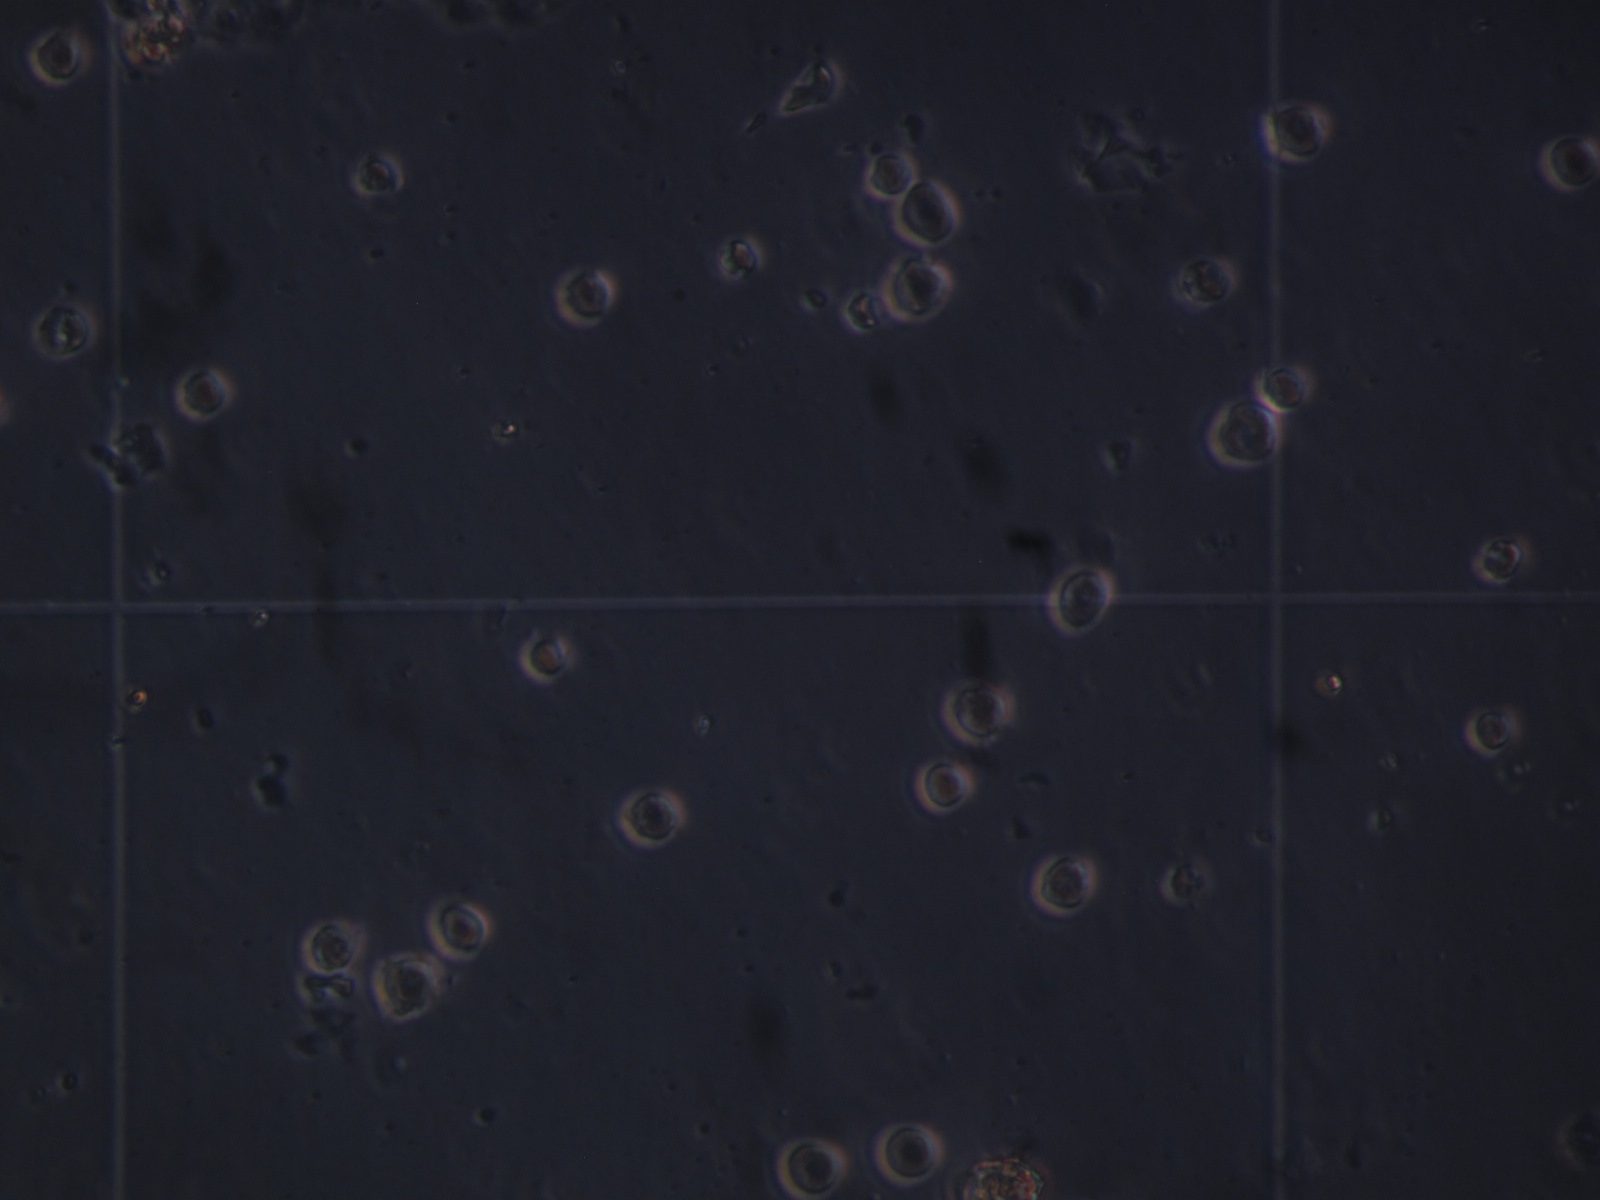hemo: (1207, 393, 1283, 469), (881, 255, 952, 326), (871, 1121, 945, 1190), (891, 176, 960, 248), (942, 679, 1015, 747), (1259, 97, 1329, 166), (369, 953, 440, 1022), (1047, 563, 1114, 637), (775, 1134, 848, 1200), (1029, 853, 1099, 921), (619, 783, 687, 850), (428, 894, 493, 962), (26, 26, 93, 89), (34, 299, 100, 361), (556, 262, 615, 330), (1540, 134, 1600, 194), (299, 916, 362, 974), (1255, 363, 1317, 417), (1473, 529, 1532, 585), (918, 756, 974, 816), (1174, 255, 1233, 308), (175, 366, 231, 421), (518, 630, 577, 682), (1464, 705, 1522, 756), (866, 145, 918, 198), (351, 151, 404, 198), (844, 285, 884, 335), (719, 236, 762, 279), (1163, 863, 1204, 904)
